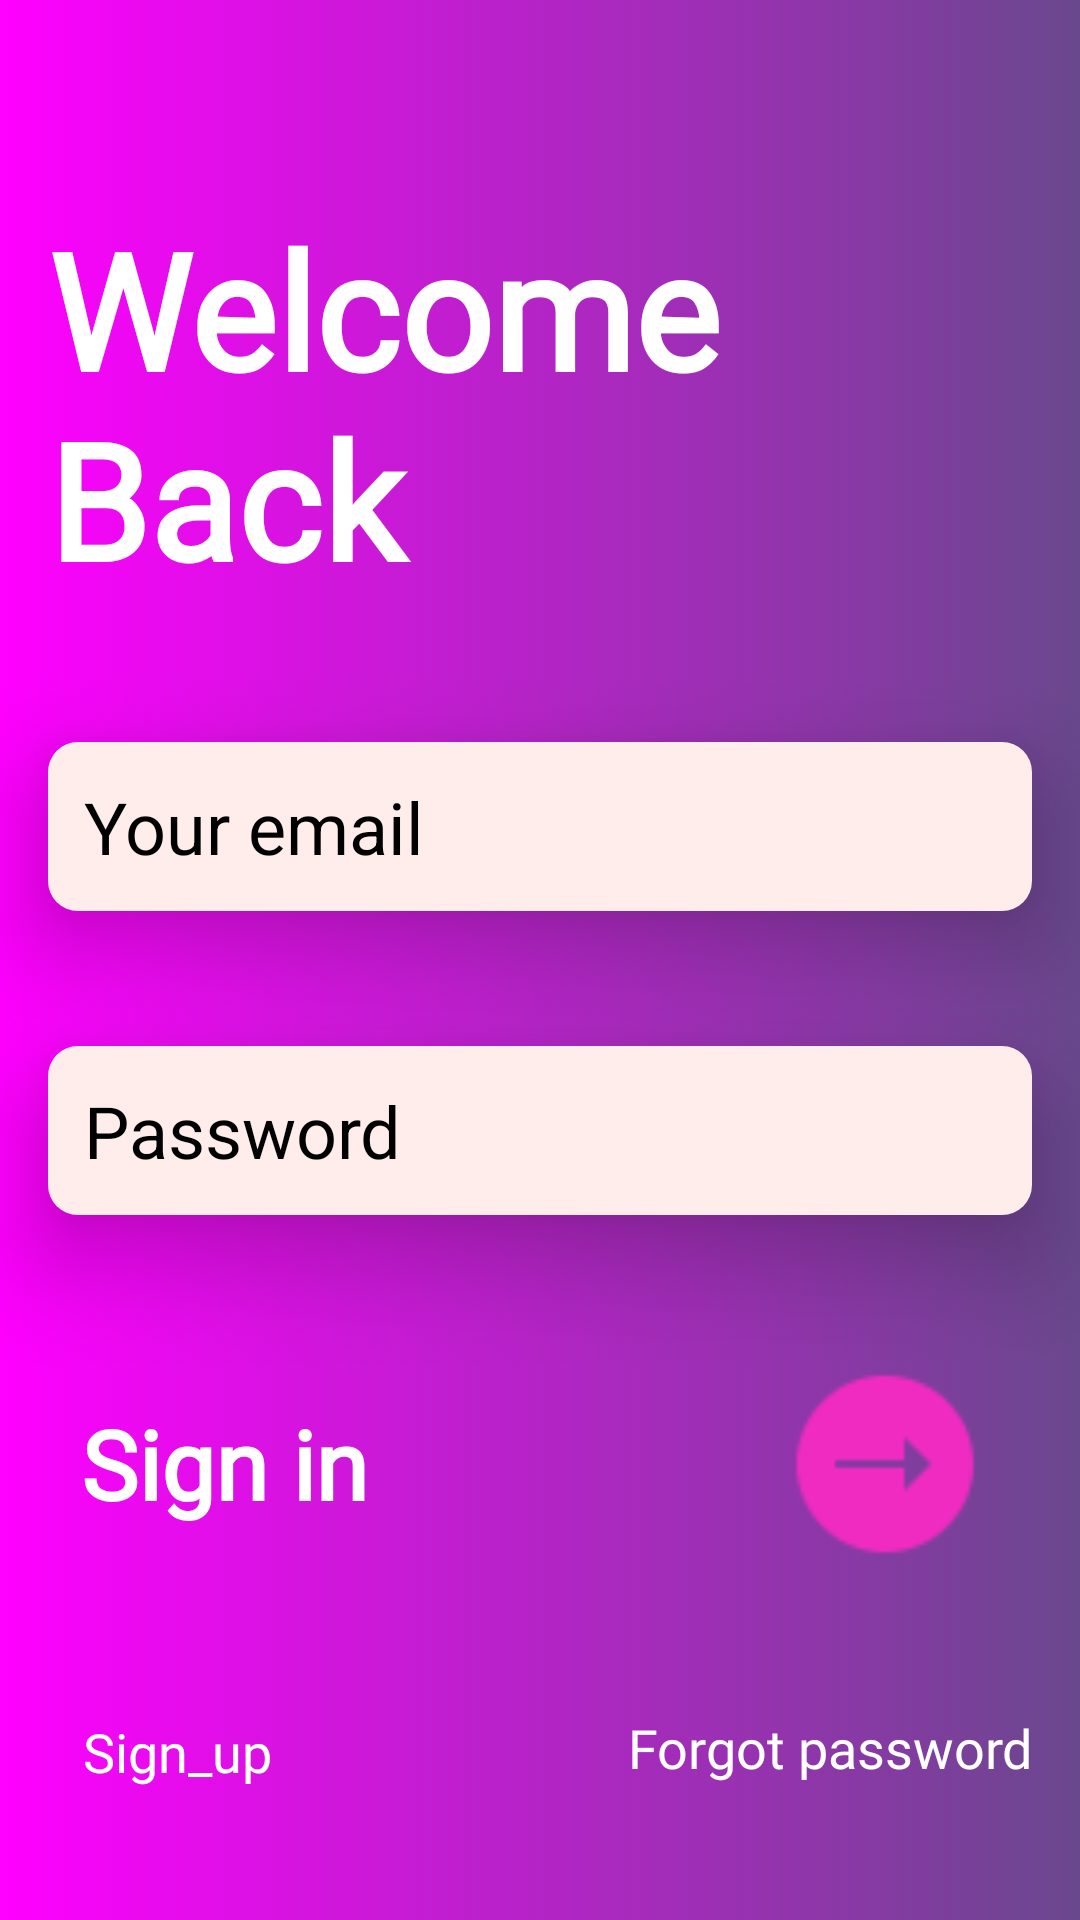

Icon click points for this 1080w x 1920h phone screenshot, format [x,y]:
next: [885,1464]
